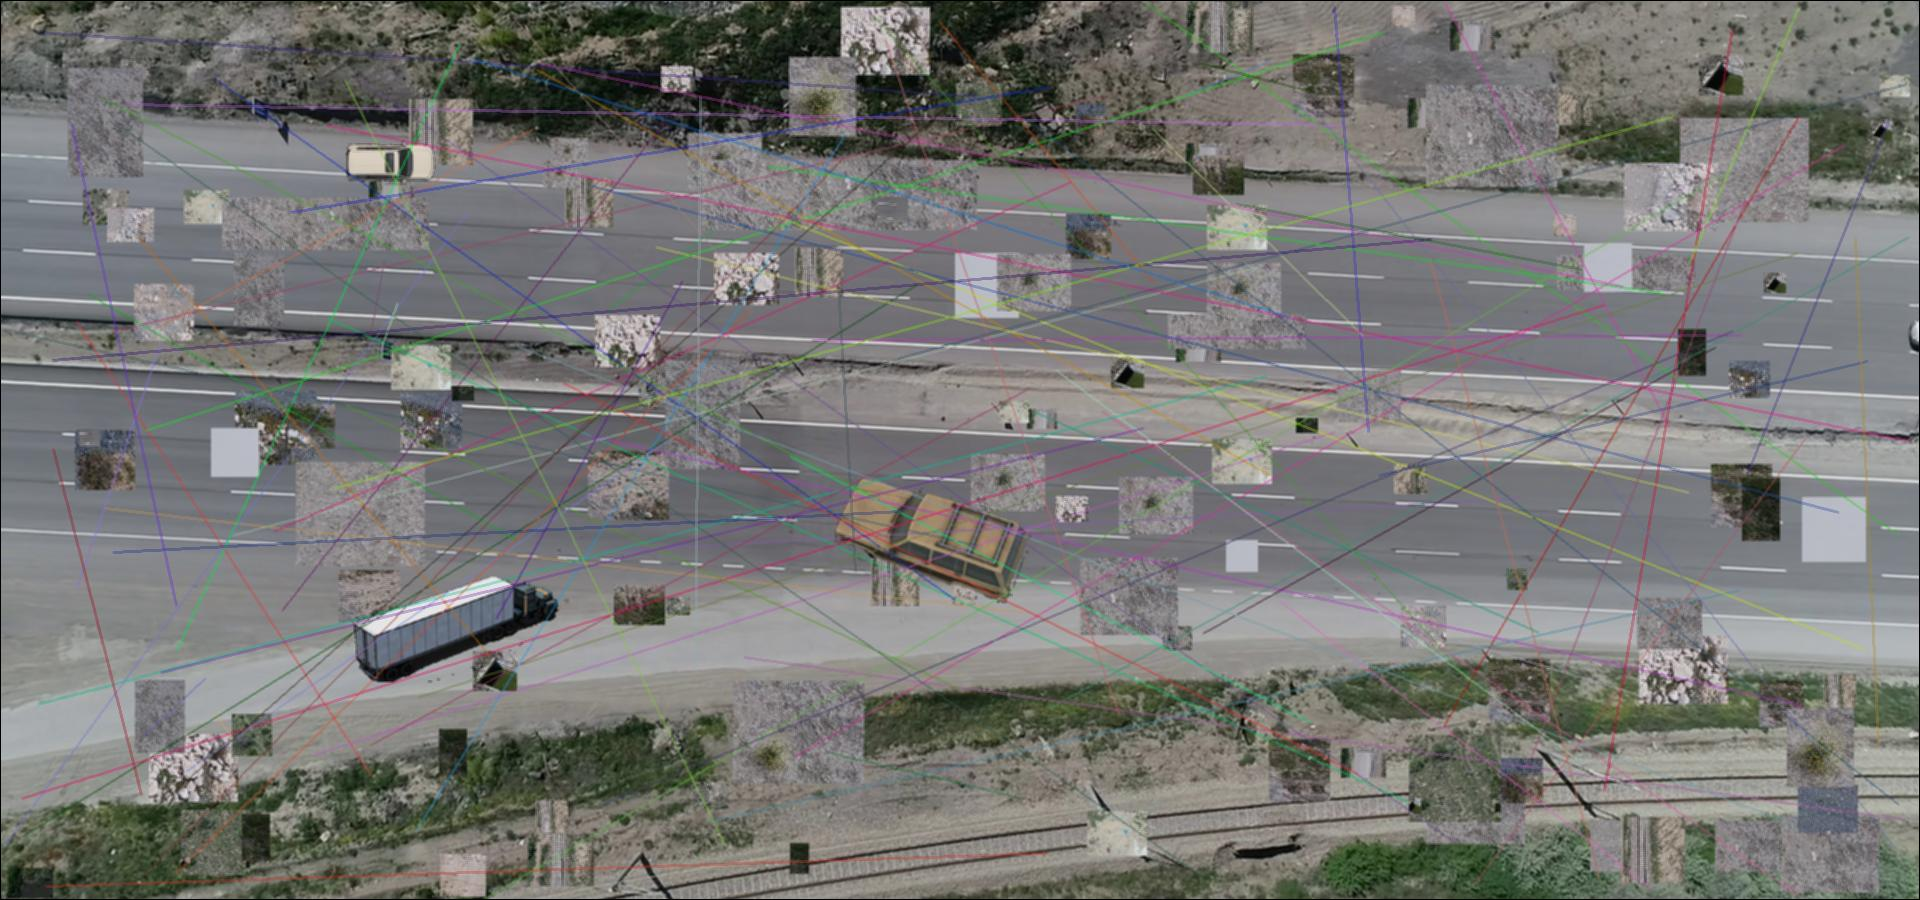arac: (833, 471, 1032, 610), (347, 577, 560, 682), (343, 140, 440, 186)
